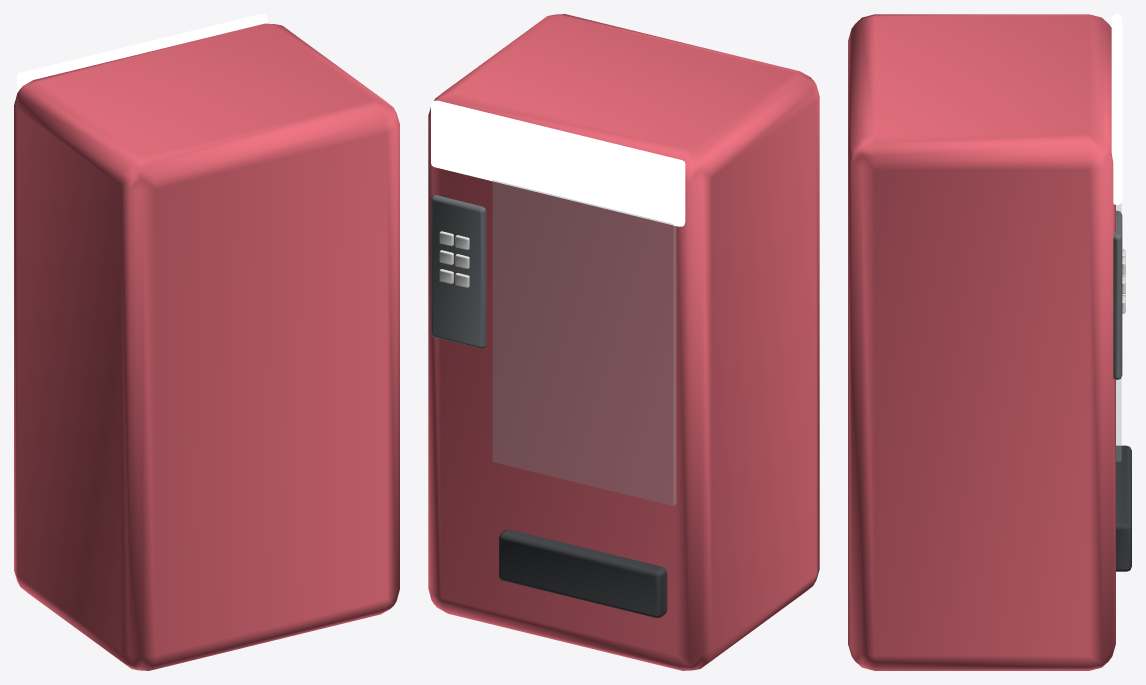
Rendered from maquina_bebidas.glb.
3 renders of one model, left to right at view 1: azimuth 30°, elevation 25°; view 2: azimuth 150°, elevation 25°; view 3: azimuth 270°, elevation 25°, orthographic. The views are drawn at different scales.
Parts seen in each view (by area): view 1: cuerpo, cartel; view 2: cuerpo, vitrina, cartel, bandeja, panel; view 3: cuerpo, cartel, bandeja, panel, vitrina.
Part boxes in pixels (x1,y1,x2,y2): cuerpo: (14,23,399,670); cartel: (17,14,267,93); cuerpo: (428,14,819,670); vitrina: (493,180,675,505); cartel: (431,100,685,226); bandeja: (499,529,667,617); panel: (431,195,486,348); cuerpo: (848,14,1115,670); cartel: (1111,14,1122,204); bandeja: (1116,445,1131,571); panel: (1113,210,1122,379); vitrina: (1116,203,1121,461).
Bounding box in the file's own units: 0.62 × 1.1 × 0.53.
